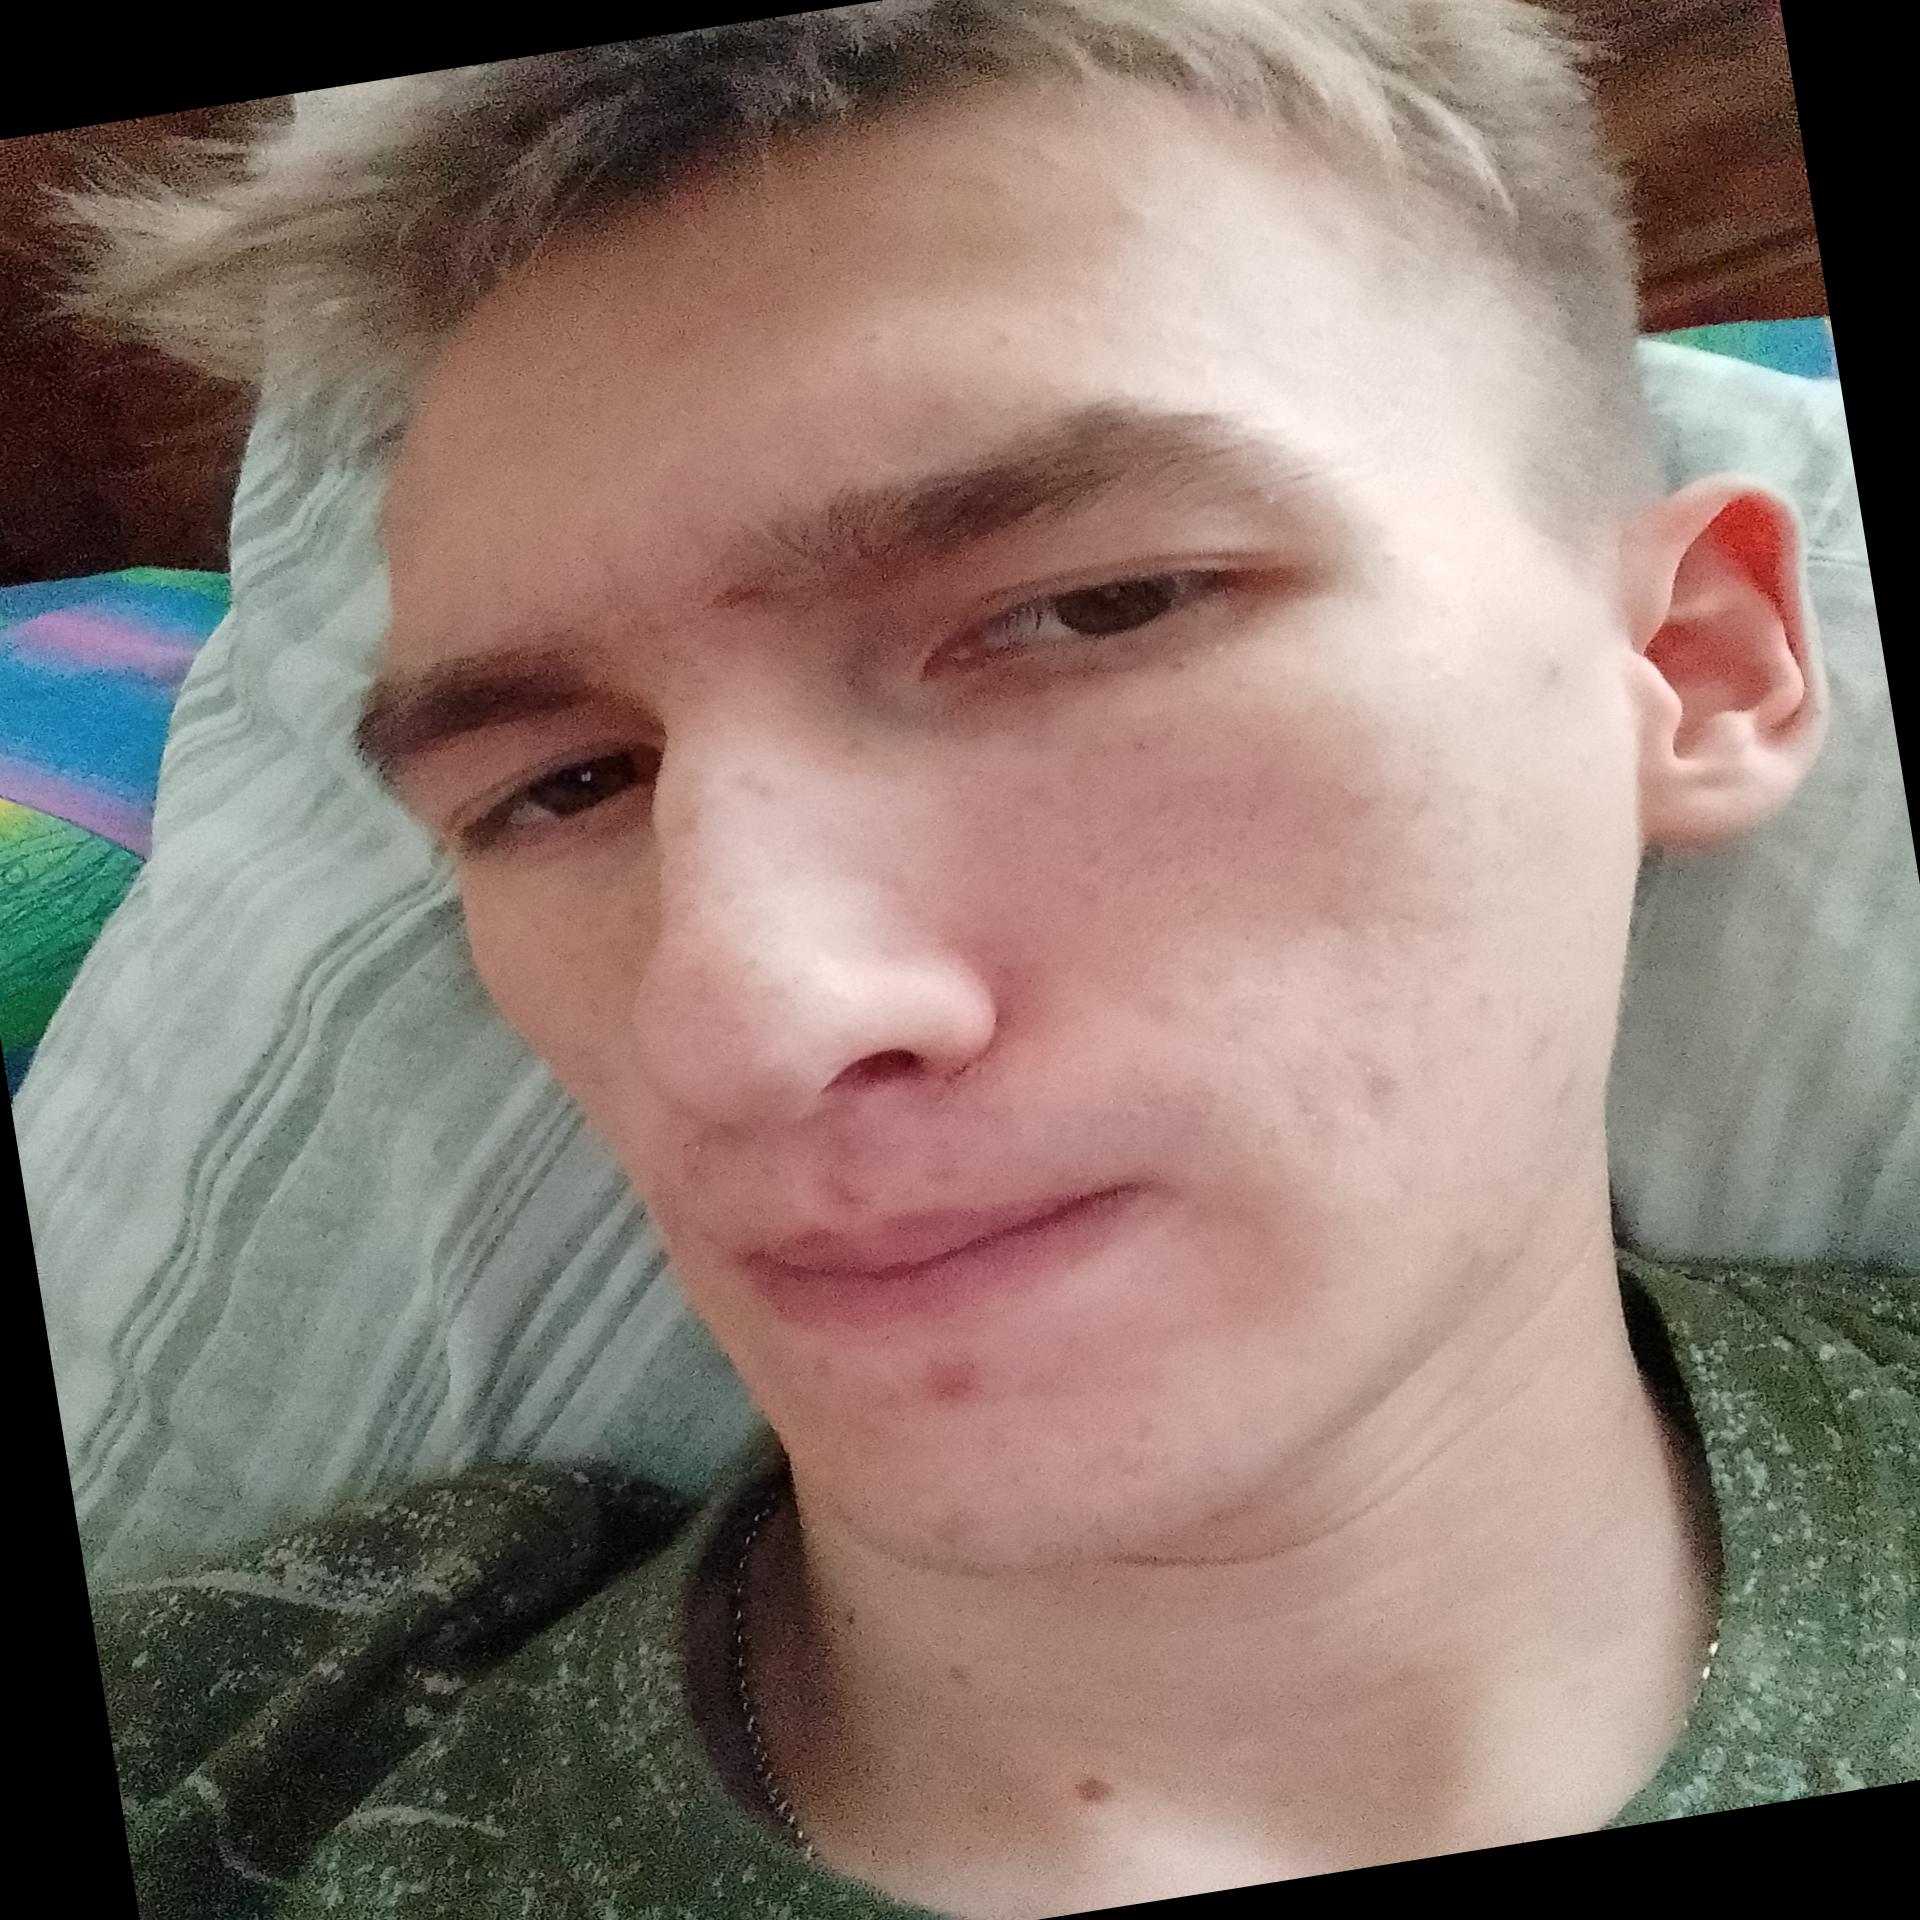Acne: (883, 1333, 995, 1421), (1338, 1046, 1408, 1129), (679, 570, 775, 628), (1424, 1224, 1491, 1291), (658, 1125, 723, 1194), (1503, 1013, 1574, 1073), (1022, 125, 1092, 185), (923, 1500, 990, 1554), (811, 1166, 872, 1220), (1331, 768, 1391, 816), (905, 1138, 965, 1185), (1099, 197, 1160, 243), (1549, 1057, 1593, 1116), (1519, 649, 1567, 703), (1141, 981, 1197, 1027), (1064, 302, 1095, 338), (802, 1347, 830, 1384)
